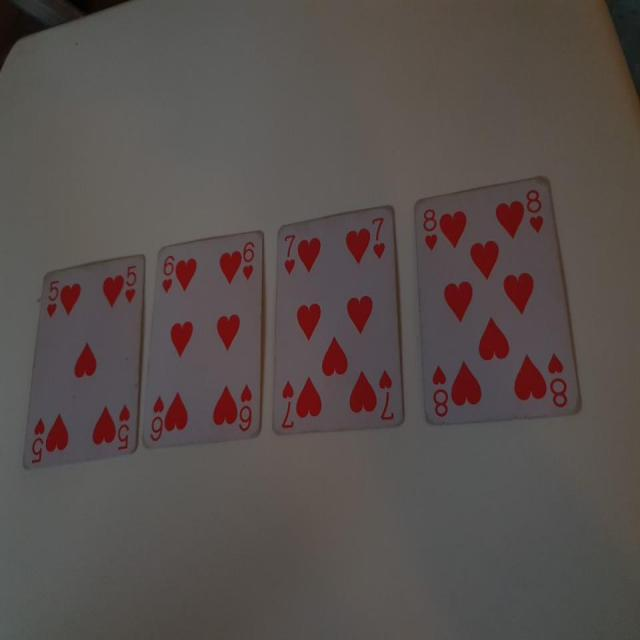5 Hearts: (25, 253, 144, 474)
6 Hearts: (140, 233, 269, 454)
7 Hearts: (266, 202, 409, 445)
8 Hearts: (414, 165, 585, 428)
